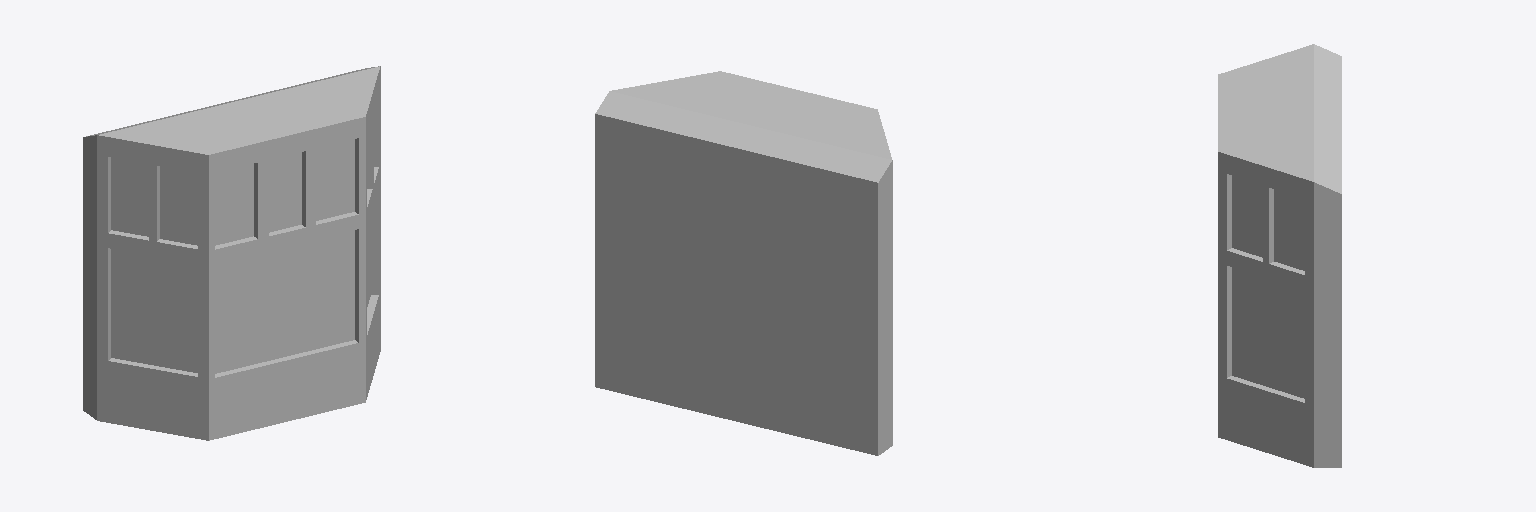
The model's file is balcon.obj.
The picture shows the model from 3 angles: view 1: azimuth 30°, elevation 25°; view 2: azimuth 150°, elevation 25°; view 3: azimuth 270°, elevation 25°; orthographic projection.
Visible parts, largest first — view 1: pCube1; view 2: pCube1; view 3: pCube1.
Part boxes in pixels (left/top/right/bottom): pCube1: left=83, top=66, right=380, bottom=440; pCube1: left=595, top=71, right=892, bottom=455; pCube1: left=1218, top=44, right=1341, bottom=467.
Bounding box in the file's own units: 6.98 × 6.74 × 2.67.